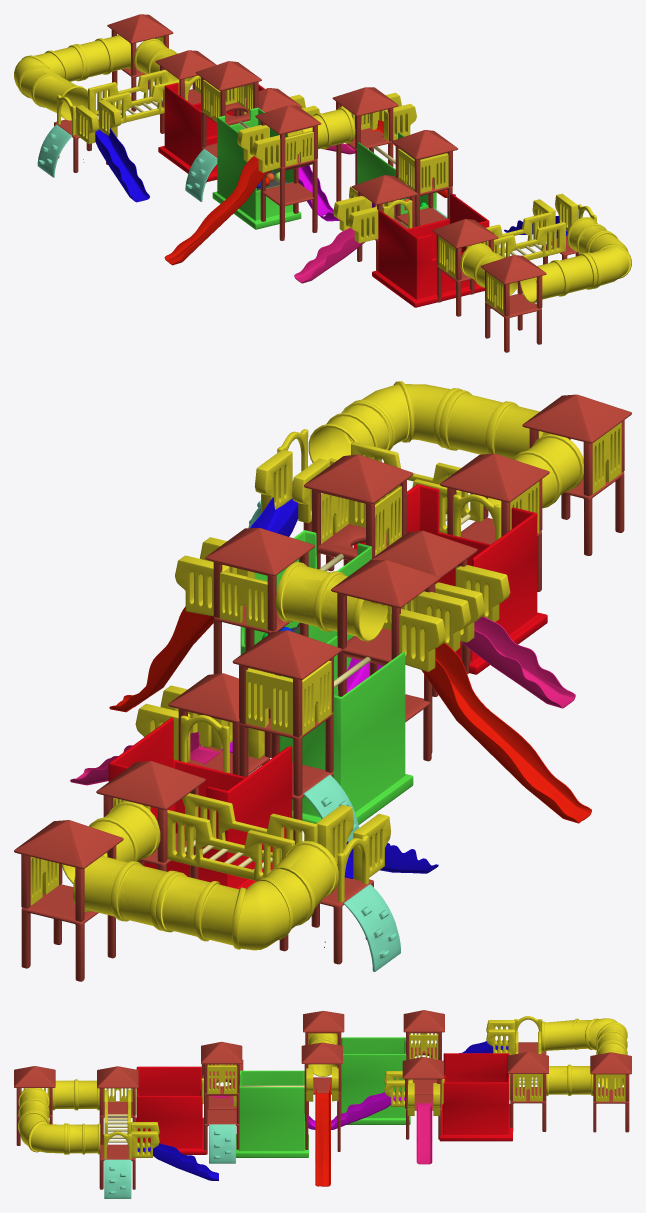
The model's file is Parkfbx.fbx.
The picture shows the model from 3 angles, top to bottom: view 1: azimuth 30°, elevation 25°; view 2: azimuth 150°, elevation 25°; view 3: azimuth 270°, elevation 25°; orthographic projection. The views are drawn at different scales.
Parts seen in each view (by area): view 1: SETT.056, SETT.034, SETT.037, SETT.006, SETT.039, SETT.018, SETT.027, SETT.064, SETT.051, SETT.040, SETT.022, SETT.009 (+27 smaller); view 2: SETT.006, SETT.034, SETT.037, SETT.018, SETT.056, SETT.013, SETT.022, SETT.039, SETT.031, SETT.051, SETT.064, SETT.040 (+33 smaller); view 3: SETT.018, SETT.043, SETT.056, SETT.034, SETT.006, SETT.042, SETT.065, SETT.040, SETT.022, SETT.007, SETT.013, SETT.058 (+27 smaller).
Boxes of the visible parts, <box> form: SETT.056: <box>372,193,489,307</box>; SETT.034: <box>212,107,301,229</box>; SETT.037: <box>164,125,280,265</box>; SETT.006: <box>14,45,87,120</box>; SETT.039: <box>255,105,321,240</box>; SETT.018: <box>158,82,264,181</box>; SETT.027: <box>76,99,149,202</box>; SETT.064: <box>480,255,546,352</box>; SETT.051: <box>294,196,378,283</box>; SETT.040: <box>332,87,398,201</box>; SETT.022: <box>195,61,261,182</box>; SETT.009: <box>520,253,597,303</box>; SETT.006: <box>156,841,338,950</box>; SETT.034: <box>279,636,413,824</box>; SETT.037: <box>391,591,591,823</box>; SETT.018: <box>108,717,292,889</box>; SETT.056: <box>353,484,547,674</box>; SETT.013: <box>14,820,123,981</box>; SETT.022: <box>232,630,341,844</box>; SETT.039: <box>331,560,440,761</box>; SETT.031: <box>167,793,317,881</box>; SETT.051: <box>435,565,575,708</box>; SETT.064: <box>522,394,631,555</box>; SETT.040: <box>205,528,314,674</box>; SETT.018: <box>439,1053,512,1141</box>; SETT.043: <box>236,1070,308,1157</box>; SETT.056: <box>135,1066,206,1154</box>; SETT.034: <box>337,1037,410,1124</box>; SETT.006: <box>541,1018,627,1052</box>; SETT.042: <box>306,1066,338,1186</box>; SETT.065: <box>131,1122,218,1180</box>; SETT.040: <box>301,1042,342,1151</box>; SETT.022: <box>403,1010,444,1094</box>; SETT.007: <box>18,1111,67,1154</box>; SETT.013: <box>590,1052,631,1132</box>; SETT.058: <box>97,1066,138,1144</box>.
Size of the model in its own units: 3289 by 1239 by 6354.
